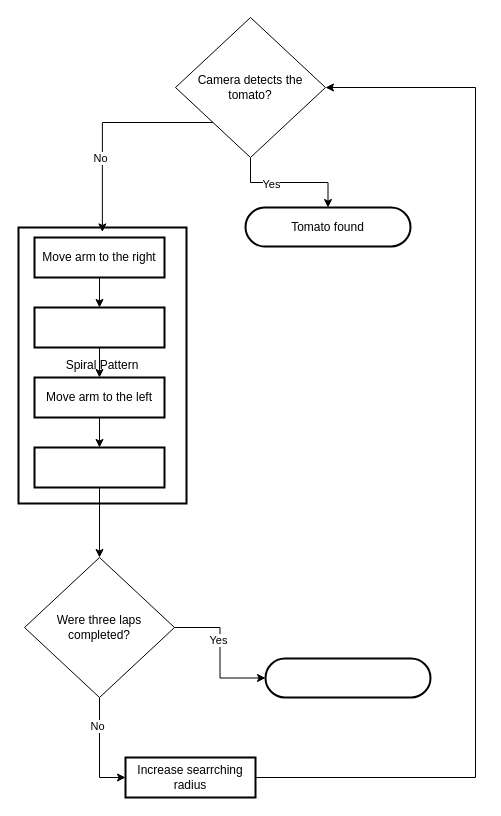
Some shapes in this 501 by 816 pixel diagram are drawn without their labels. The centre of each missing label's shape, as x and y in pixels:
"Move arm down" belongs at pixel 99 467.
"Move arm up" belongs at pixel 99 327.
"The end: wasn't found" belongs at pixel 347 677.
